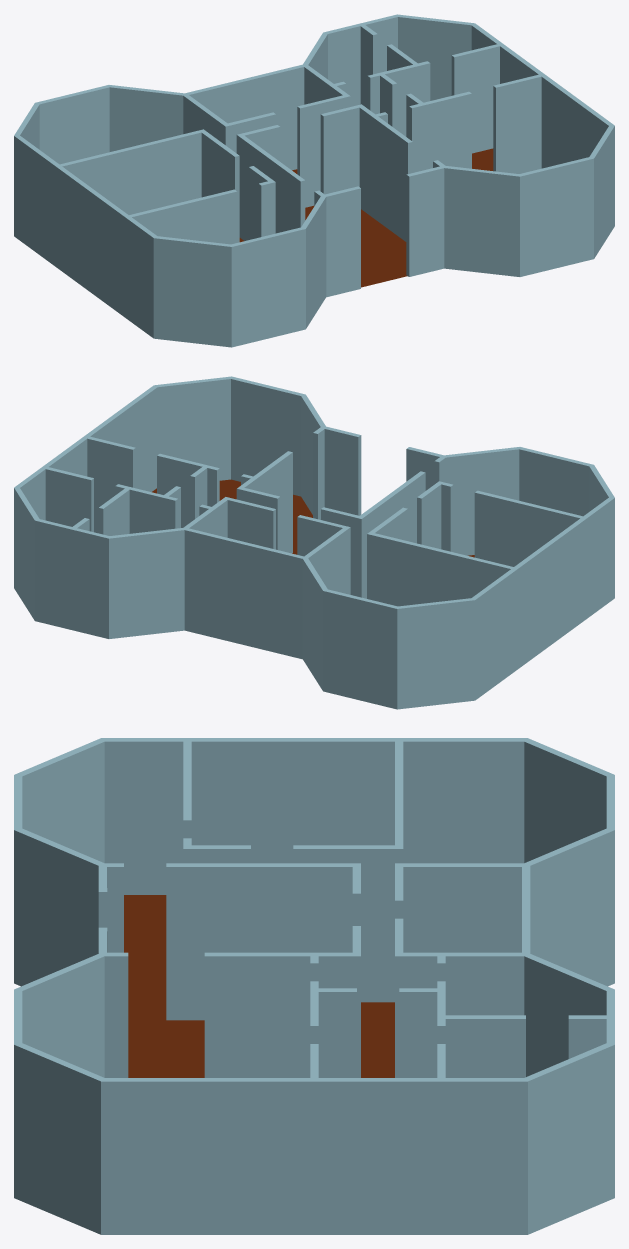
Rendered from ComplexWalls.fbx.
The picture shows the model from 3 angles, top to bottom: view 1: azimuth 30°, elevation 25°; view 2: azimuth 150°, elevation 25°; view 3: azimuth 270°, elevation 25°; orthographic projection. The views are drawn at different scales.
Visible parts, largest first — view 1: ComplexWalls, ComplexFloor; view 2: ComplexWalls, ComplexFloor; view 3: ComplexWalls, ComplexFloor.
Boxes of the visible parts, <box> form: ComplexWalls: <box>14,14,614,347</box>; ComplexFloor: <box>239,148,493,287</box>; ComplexWalls: <box>14,376,614,709</box>; ComplexFloor: <box>152,479,474,557</box>; ComplexWalls: <box>14,738,614,1234</box>; ComplexFloor: <box>124,895,394,1077</box>.
Size of the model in its own units: 1920 by 400 by 1420.
